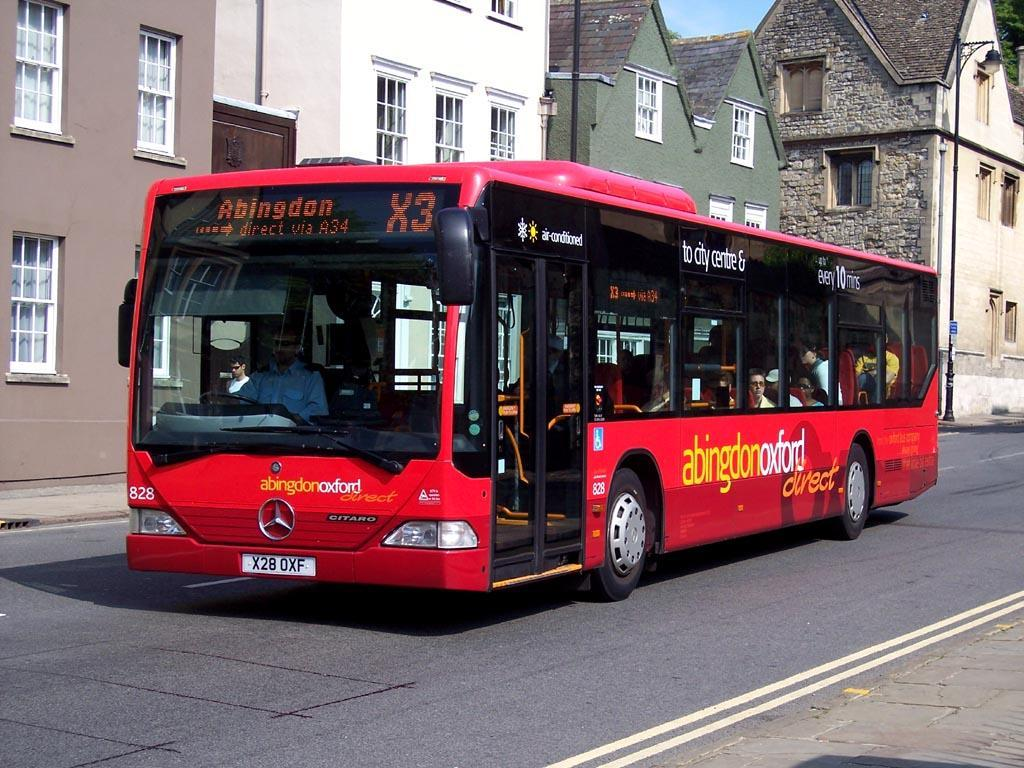Bus: (124, 161, 943, 604)
